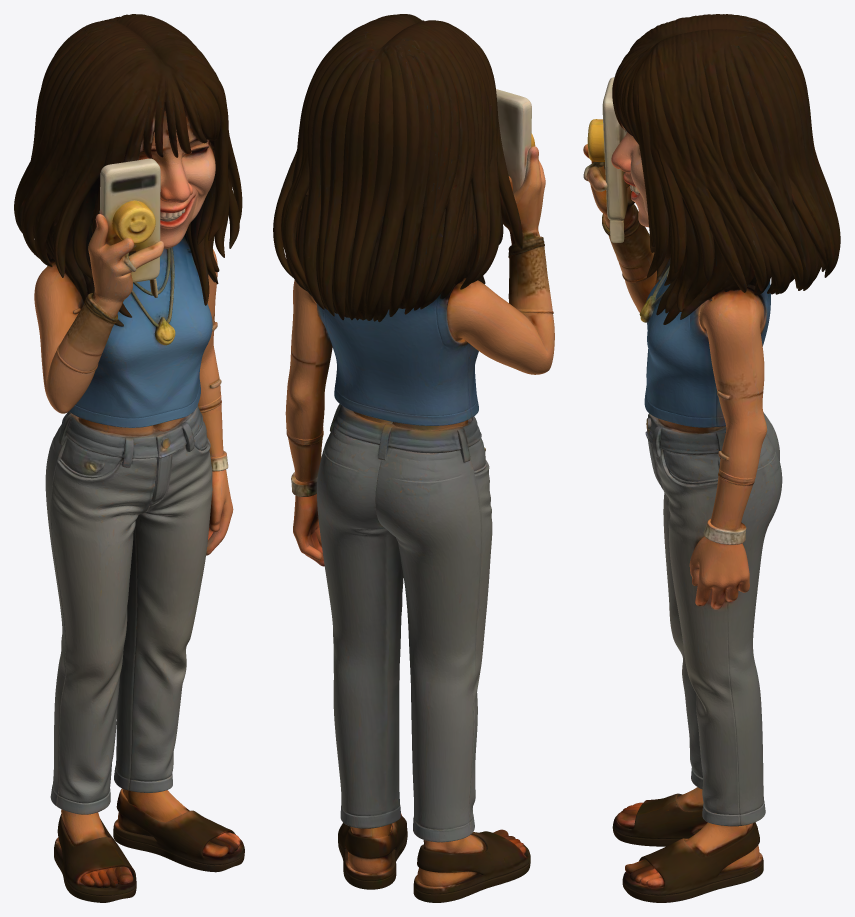
File: character1_optimized.glb
3 views of the same model, side by side, from view 1: azimuth 30°, elevation 25°; view 2: azimuth 150°, elevation 25°; view 3: azimuth 270°, elevation 25° (orthographic). The views are drawn at different scales.
Parts seen in each view (by area): view 1: Figure; view 2: Figure; view 3: Figure.
Boxes of the visible parts, box(x1,y1,x2,y2) form: Figure: box(14, 14, 244, 902); Figure: box(273, 14, 554, 902); Figure: box(583, 14, 840, 902).
Bounding box in the file's own units: 27.16 × 100 × 27.79.
Materials: 1 (1 with a texture image).
